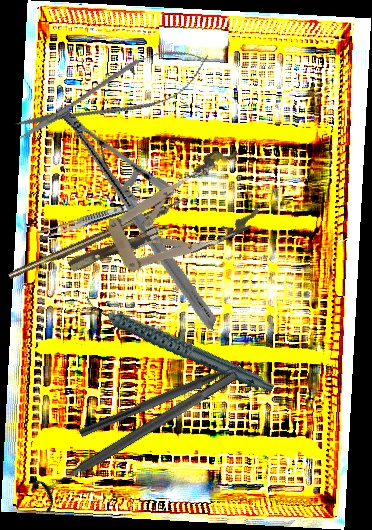Chopper: (78, 355, 254, 450)
Dressing Forceps: (35, 195, 152, 243)
Fixation Ring: (27, 359, 247, 515)
Handpiece: (81, 260, 276, 428)
Hook Surgical: (7, 193, 196, 280)
Micro Scissor: (6, 33, 219, 157)
Needle Holder: (4, 106, 272, 330)
Speculum: (51, 142, 269, 305)
